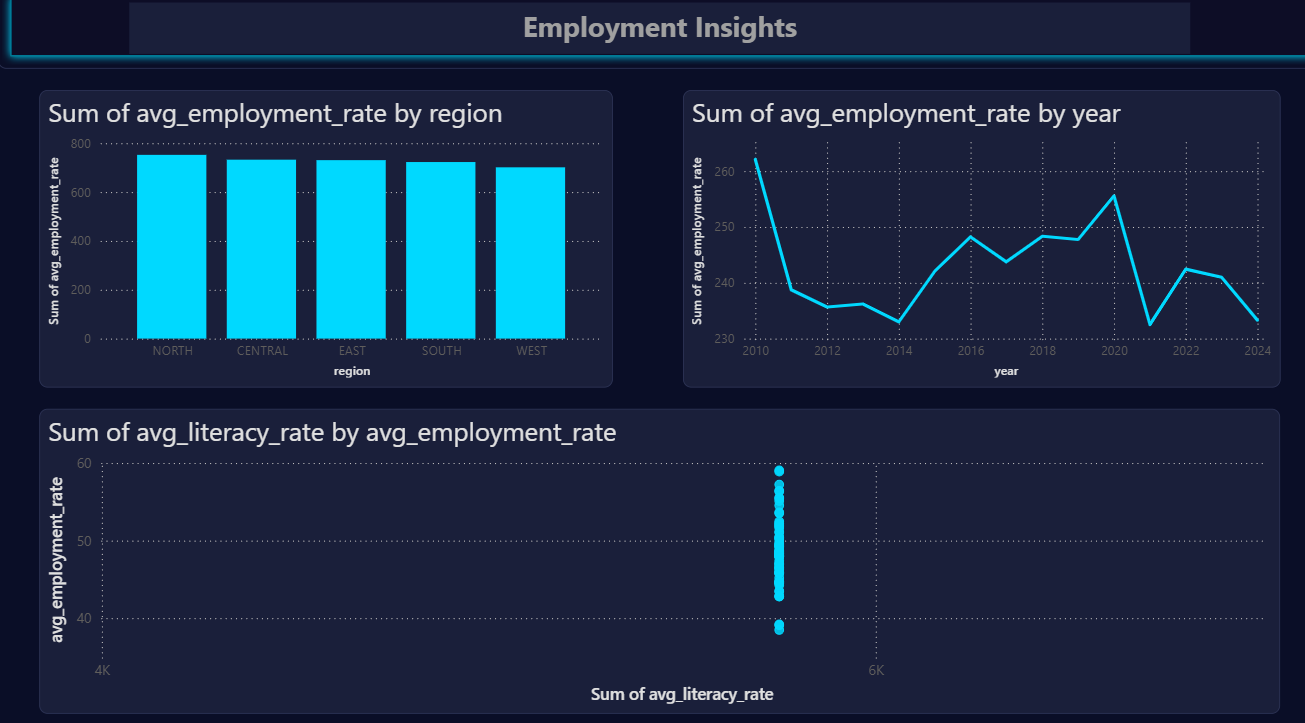

The page's visual inventory and layout, read from the dashboard file:
{"tool":"powerbi","page":{"name":"Page 5","canvas":[1280,720],"ordinal":4},"visuals":[{"type":"shape","box":[0,0,1280,80.8],"z":0},{"type":"textbox","box":[126.7,16.9,1024.3,49.5],"z":1000},{"type":"columnChart","fields":{"Category":["gold_employment_rate.region"],"Y":["Sum(gold_employment_rate.avg_employment_rate)"]},"box":[39.8,101.3,553.8,287.1],"z":2000},{"type":"lineChart","fields":{"Category":["gold_employment_rate.year"],"Y":["Sum(gold_employment_rate.avg_employment_rate)"]},"box":[661.1,101.3,576.7,287.1],"z":3000},{"type":"scatterChart","fields":{"X":["Sum(gold_literacy_rate.avg_literacy_rate)"],"Y":["gold_employment_rate.avg_employment_rate"]},"box":[39.8,409,1198,294.4],"z":4000}]}

Visuals, with their boxes in screenshot pixels (x1, y1, x2, y2), scaled from the page's 1280x720 canvas onto the 1305x723 screenshot:
shape: 0/0/1304/81
textbox: 129/17/1173/67
columnChart - gold_employment_rate.region x Sum(gold_employment_rate.avg_employment_rate): 41/102/605/390
lineChart - gold_employment_rate.year x Sum(gold_employment_rate.avg_employment_rate): 674/102/1262/390
scatterChart - Sum(gold_literacy_rate.avg_literacy_rate) x gold_employment_rate.avg_employment_rate: 41/411/1262/706
